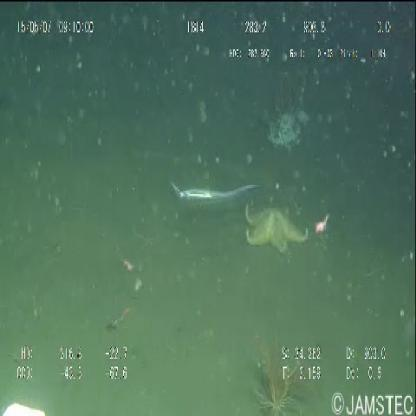Rác: (266, 86, 310, 154)
